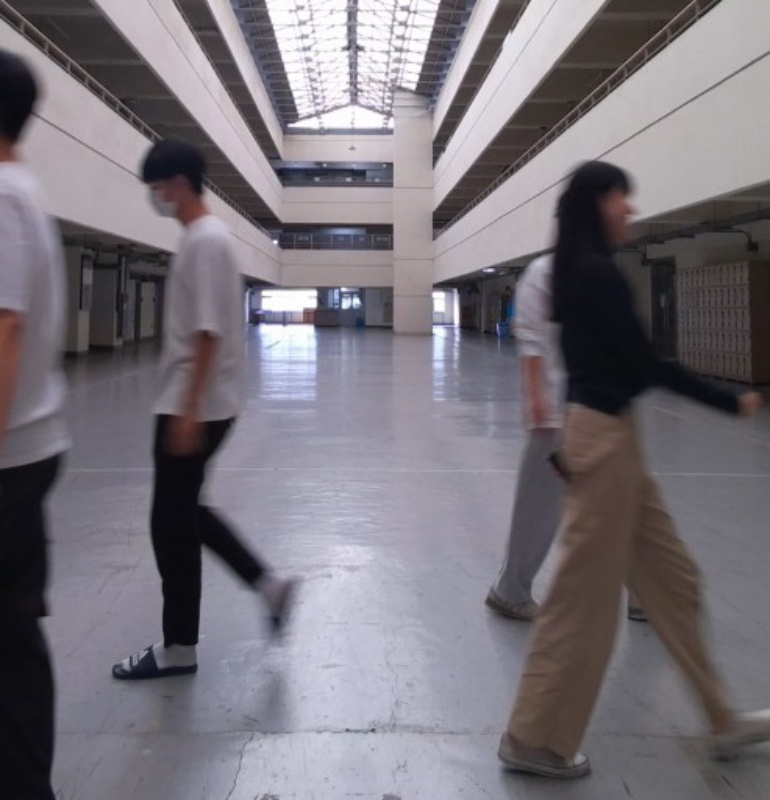person: (106, 135, 304, 682)
